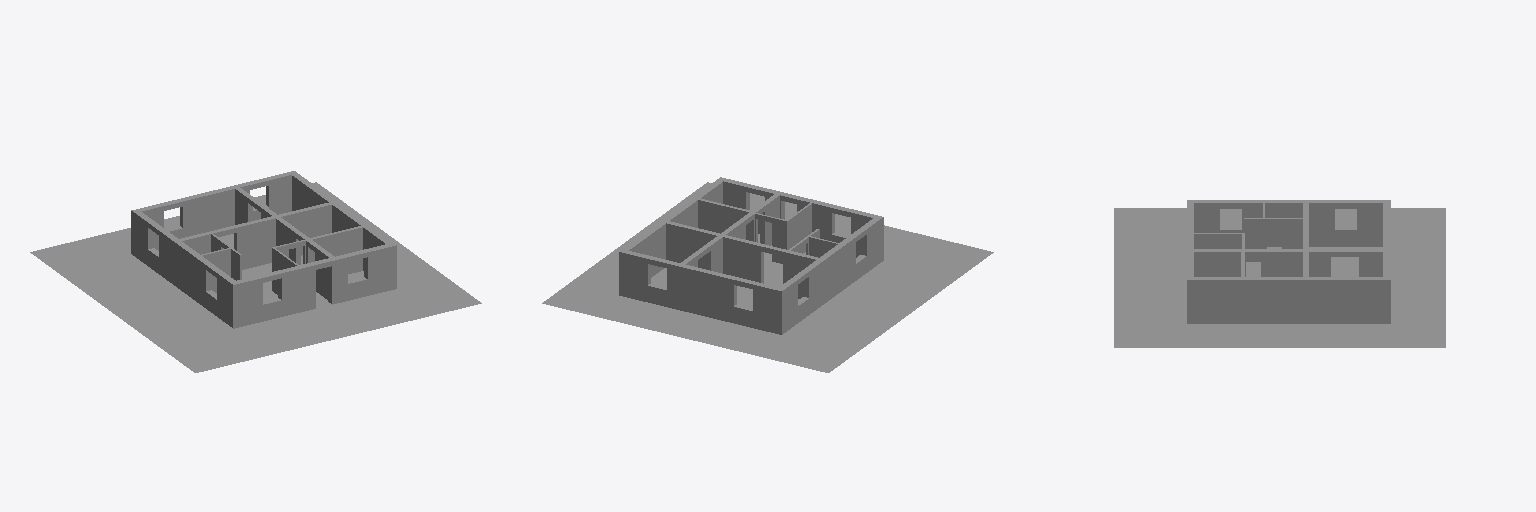
3 views of the same model, side by side, from view 1: azimuth 30°, elevation 25°; view 2: azimuth 150°, elevation 25°; view 3: azimuth 270°, elevation 25° (orthographic).
Parts seen in each view (by area): view 1: test, Plane; view 2: test, Plane; view 3: Plane, test.
Boxes of the visible parts, x1=… form: test: x1=131, y1=171, x2=396, y2=328; Plane: x1=30, y1=182, x2=481, y2=372; test: x1=619, y1=177, x2=883, y2=334; Plane: x1=542, y1=182, x2=993, y2=372; Plane: x1=1114, y1=208, x2=1445, y2=347; test: x1=1187, y1=200, x2=1390, y2=323.
Size of the model in its own units: 17.86 by 2.6 by 17.86.